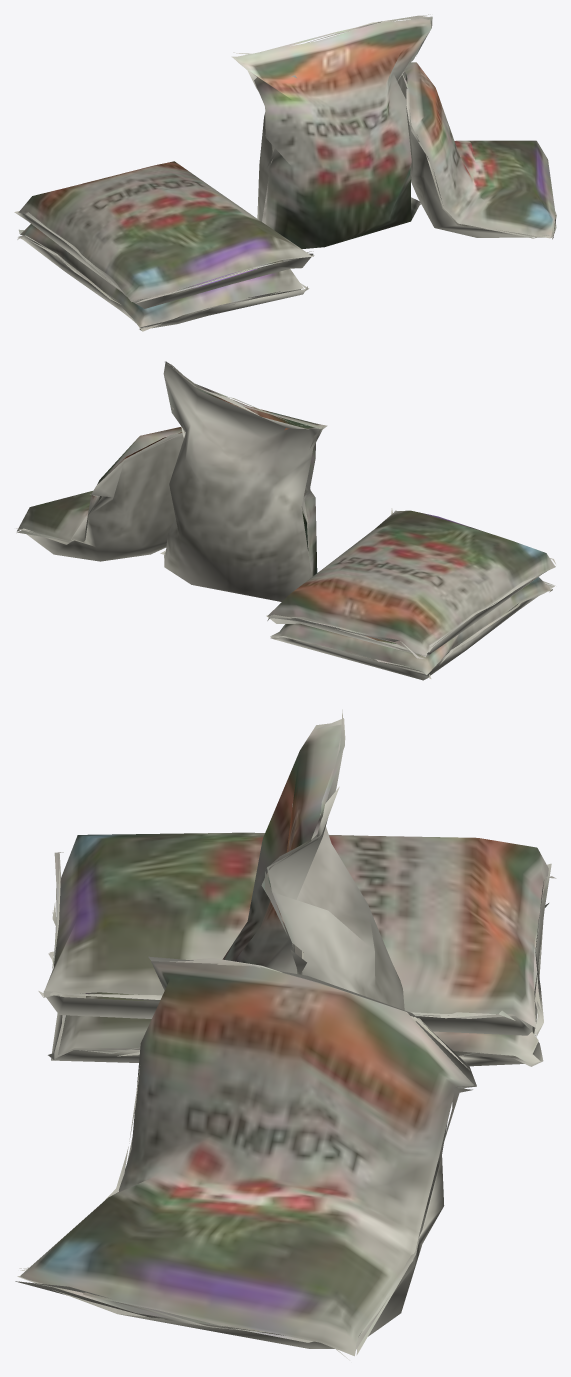
File: compost_bags.glb
3 views of the same model, one above another, from view 1: azimuth 30°, elevation 25°; view 2: azimuth 150°, elevation 25°; view 3: azimuth 270°, elevation 25° (orthographic). The views are drawn at different scales.
Parts seen in each view (by area): view 1: compost_bags_floorstacked; view 2: compost_bags_floorstacked; view 3: compost_bags_floorstacked.
Part boxes in pixels (x1,y1,x2,y2): compost_bags_floorstacked: (14,14,556,331); compost_bags_floorstacked: (16,361,555,680); compost_bags_floorstacked: (15,709,556,1360).
Bounding box in the file's own units: 1.83 × 0.7063 × 0.9232.
Materials: 1 (1 with a texture image).
